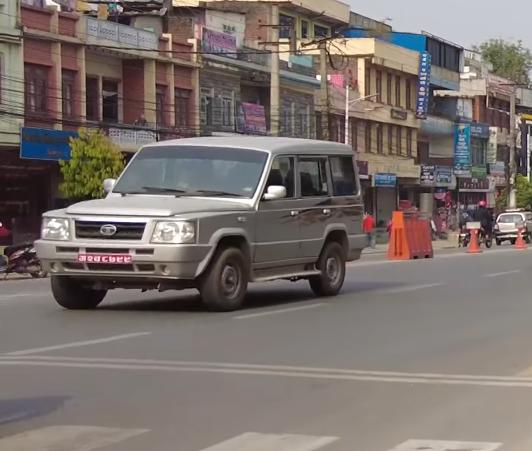SUV: (19, 122, 389, 311)
taxi: (496, 207, 532, 243)
